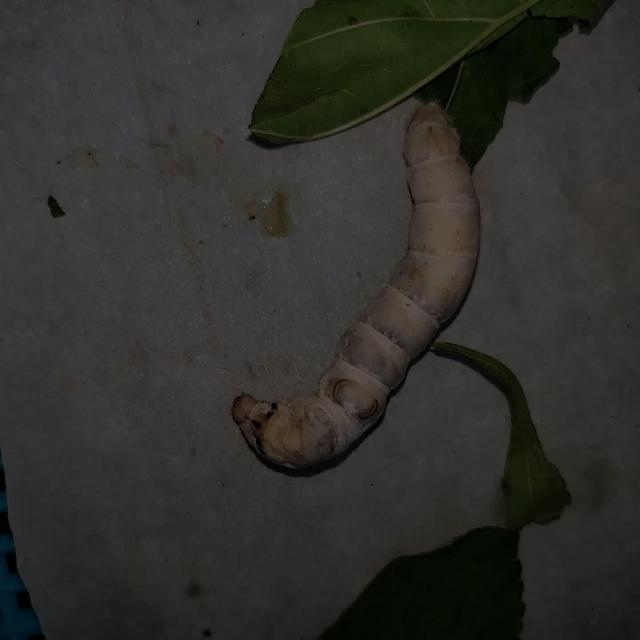Grasserie: (208, 70, 502, 513)
